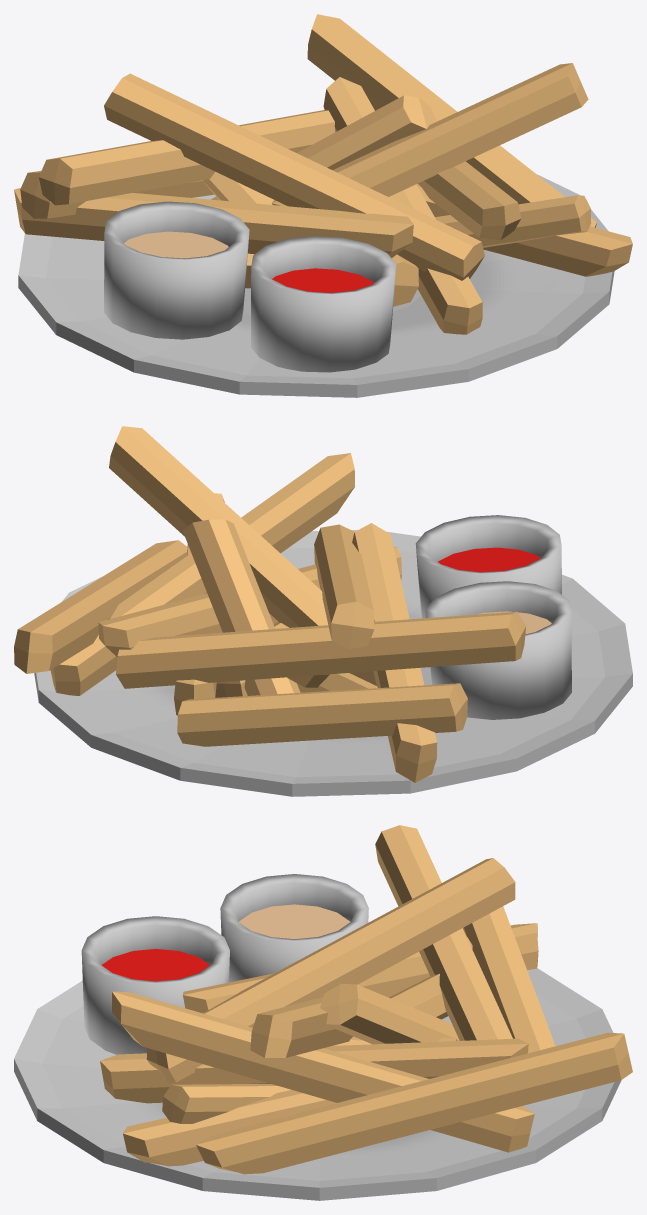
Rendered from Potato.fbx.
3 renders of one model, top to bottom at view 1: azimuth 30°, elevation 25°; view 2: azimuth 150°, elevation 25°; view 3: azimuth 270°, elevation 25°, orthographic.
Visible parts, largest first — view 1: Potato, Dish, Cup, Sauce; view 2: Potato, Dish, Cup, Sauce; view 3: Potato, Dish, Cup, Sauce.
Boxes of the visible parts, x1,y1,x2,y2 form: Potato: [14, 14, 632, 334]; Dish: [18, 174, 614, 397]; Cup: [104, 201, 396, 372]; Sauce: [124, 231, 374, 292]; Potato: [14, 426, 526, 782]; Dish: [34, 530, 632, 796]; Cup: [415, 515, 571, 719]; Sauce: [438, 547, 551, 634]; Potato: [100, 825, 632, 1174]; Dish: [14, 968, 621, 1200]; Cup: [81, 874, 368, 1054]; Sauce: [101, 904, 350, 981].
Size of the model in its own units: 146 by 53.93 by 148.
